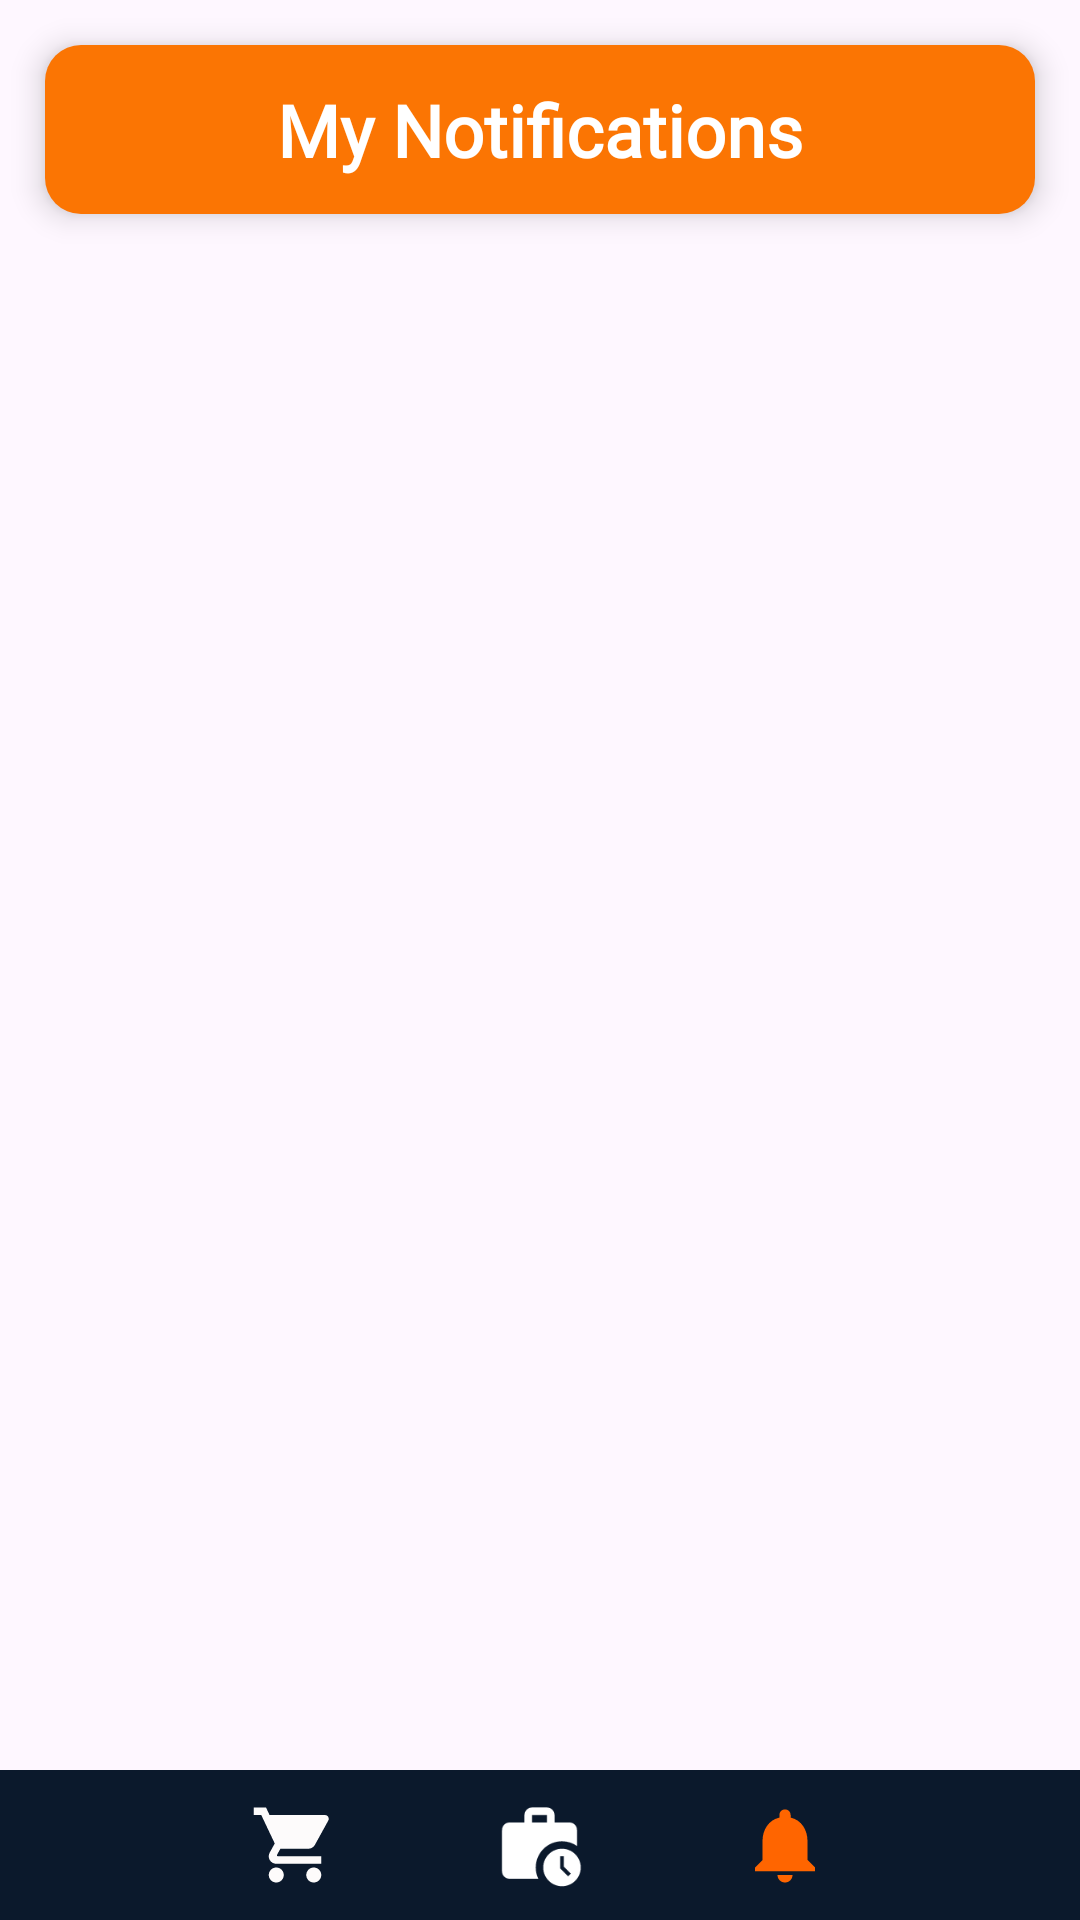

Locate icon controls on the screen. Image size 1080 x 1920, boxes as region(x1, y1, x2, y2).
cart: region(253, 1807, 329, 1883)
notifications: region(755, 1809, 815, 1883)
work history: region(501, 1807, 581, 1887)
